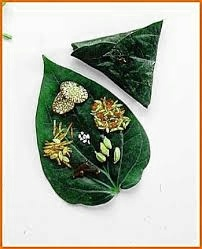bulathwita: (34, 53, 151, 209), (69, 19, 166, 110)
